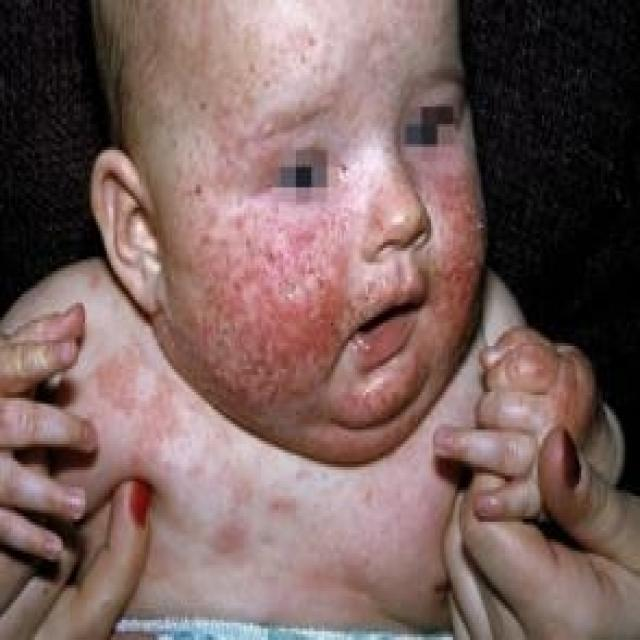Eczema: (181, 192, 347, 408), (406, 164, 496, 331)
